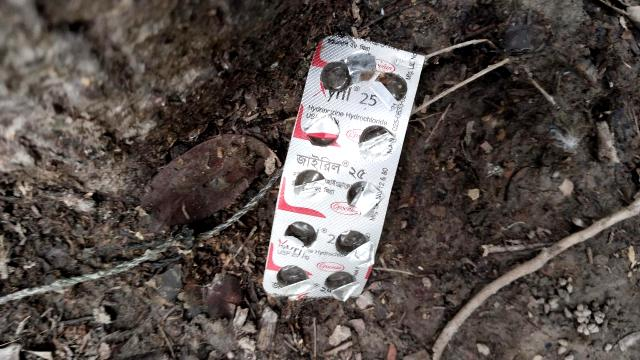medicine: (253, 28, 423, 313)
